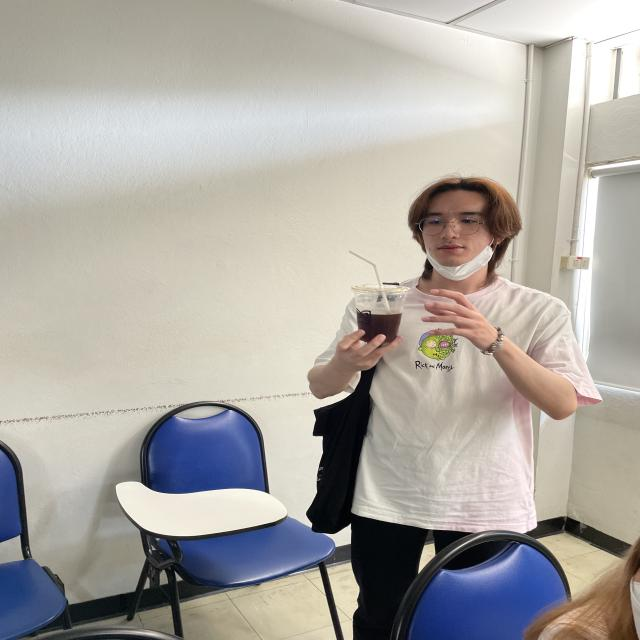cup: (349, 283, 411, 344)
